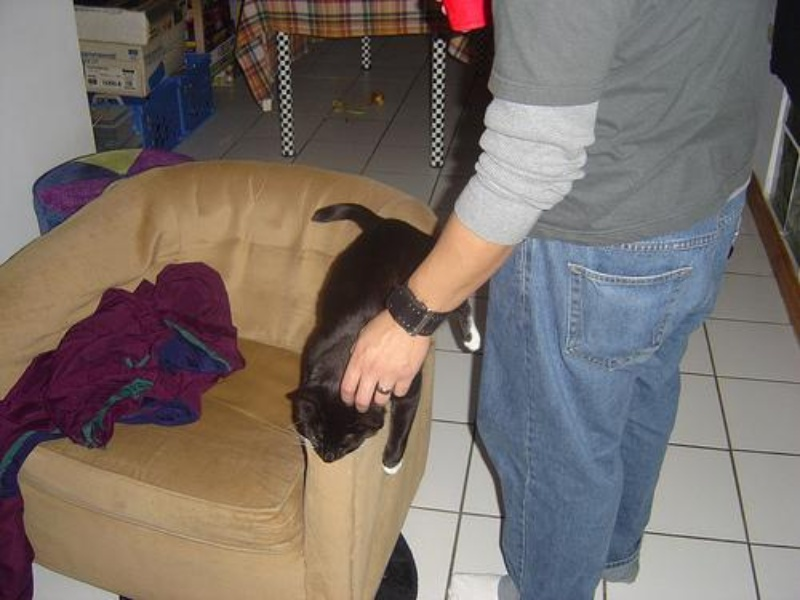hands: (337, 318, 447, 422)
